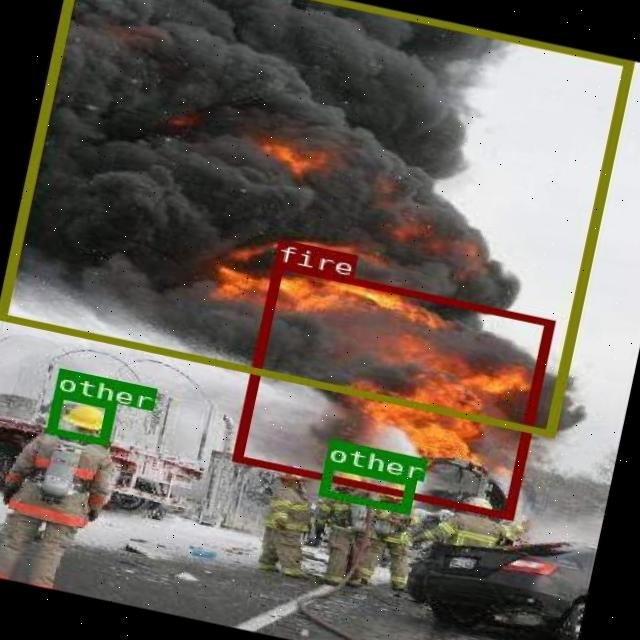fire: (230, 259, 553, 519)
smoke: (0, 0, 631, 436)
